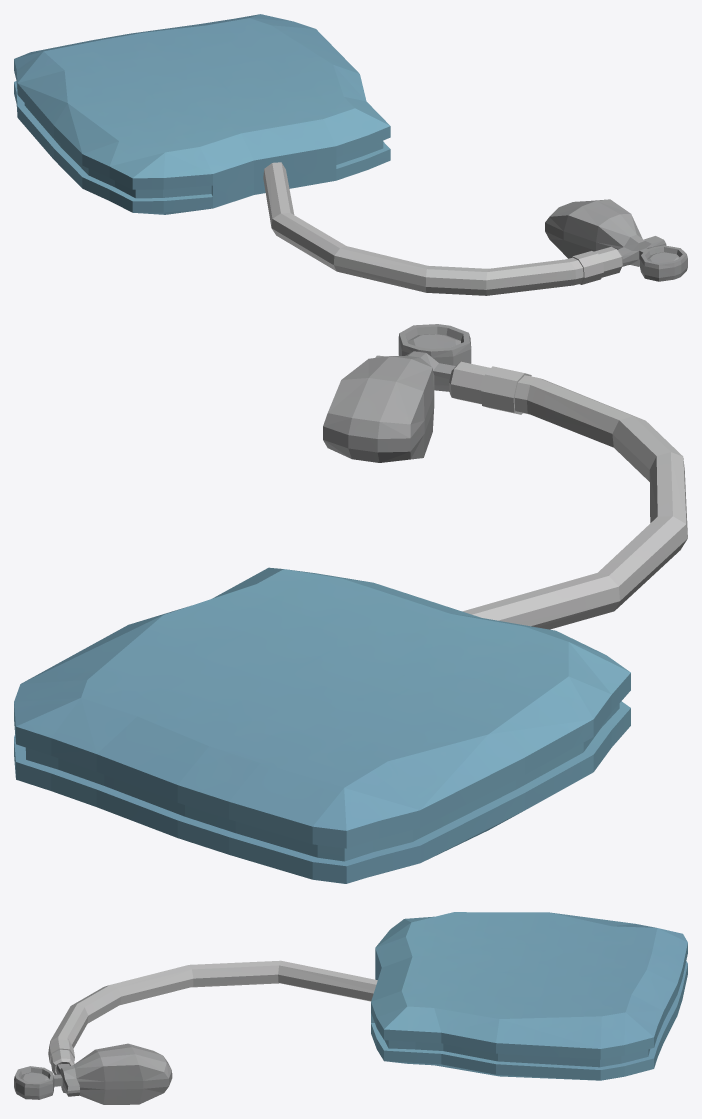
File: pressure_gauge.obj
3 views of the same model, one above another, from view 1: azimuth 30°, elevation 25°; view 2: azimuth 150°, elevation 25°; view 3: azimuth 270°, elevation 25° (orthographic). The views are drawn at different scales.
Parts seen in each view (by area): view 1: bag_Material, hose_Material, gauge_Material; view 2: bag_Material, hose_Material, gauge_Material; view 3: bag_Material, hose_Material, gauge_Material.
Part boxes in pixels (<box>): bag_Material: <box>14,14,390,214</box>; hose_Material: <box>263,162,622,295</box>; gauge_Material: <box>545,199,687,281</box>; bag_Material: <box>14,567,630,883</box>; hose_Material: <box>449,361,687,629</box>; gauge_Material: <box>323,324,471,462</box>; bag_Material: <box>371,912,687,1080</box>; hose_Material: <box>48,960,377,1074</box>; gauge_Material: <box>14,1043,172,1104</box>.
Bounding box in the file's own units: 0.2424 × 0.0398 × 0.4244.
